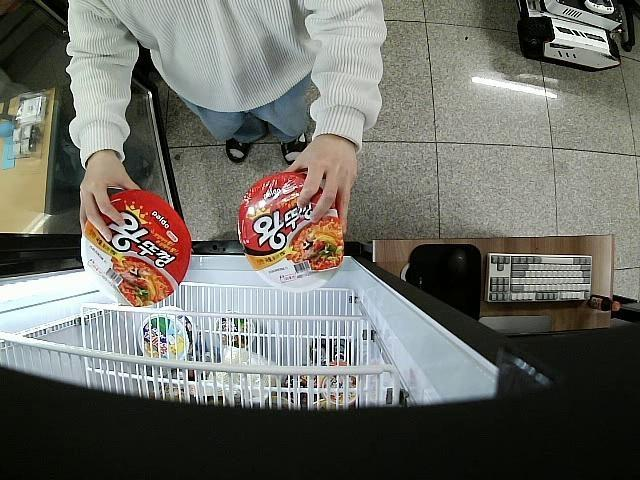10_wangTtukkeong: (78, 190, 192, 306), (237, 175, 343, 296)
